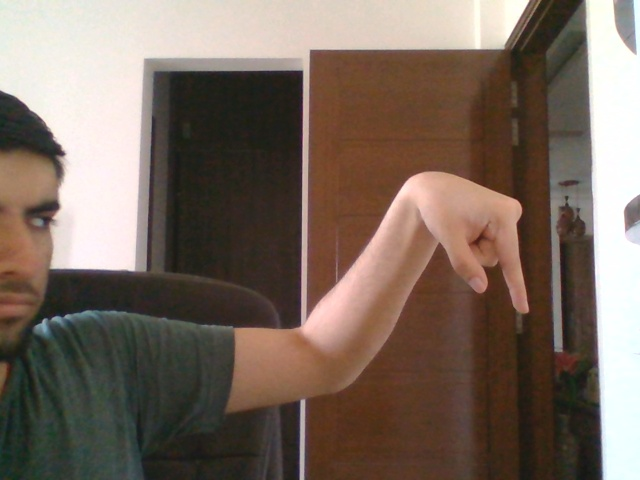LetterQ: (415, 169, 531, 317)
